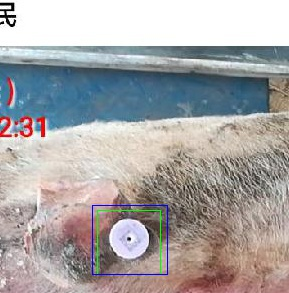text: (97, 210, 160, 274)
